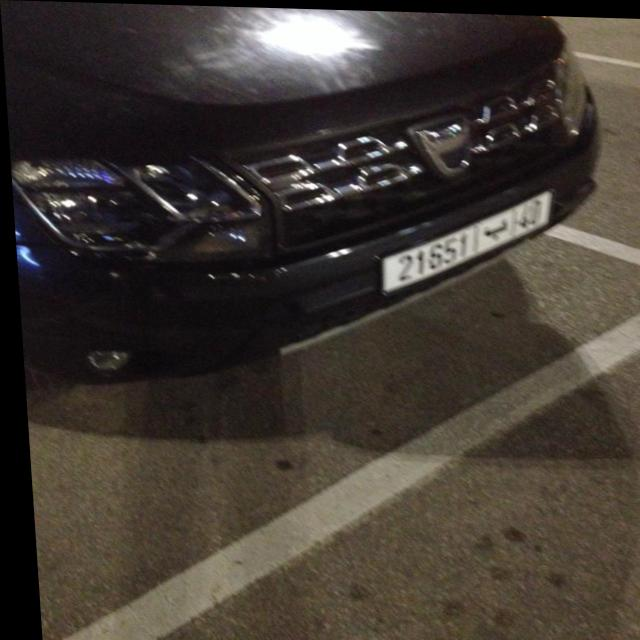License-Plate: (378, 187, 549, 291)
